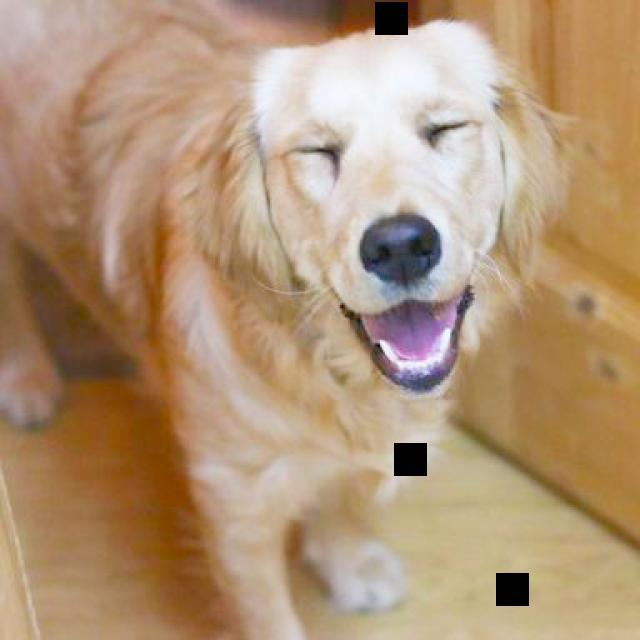adult_dog: (0, 1, 559, 640)
